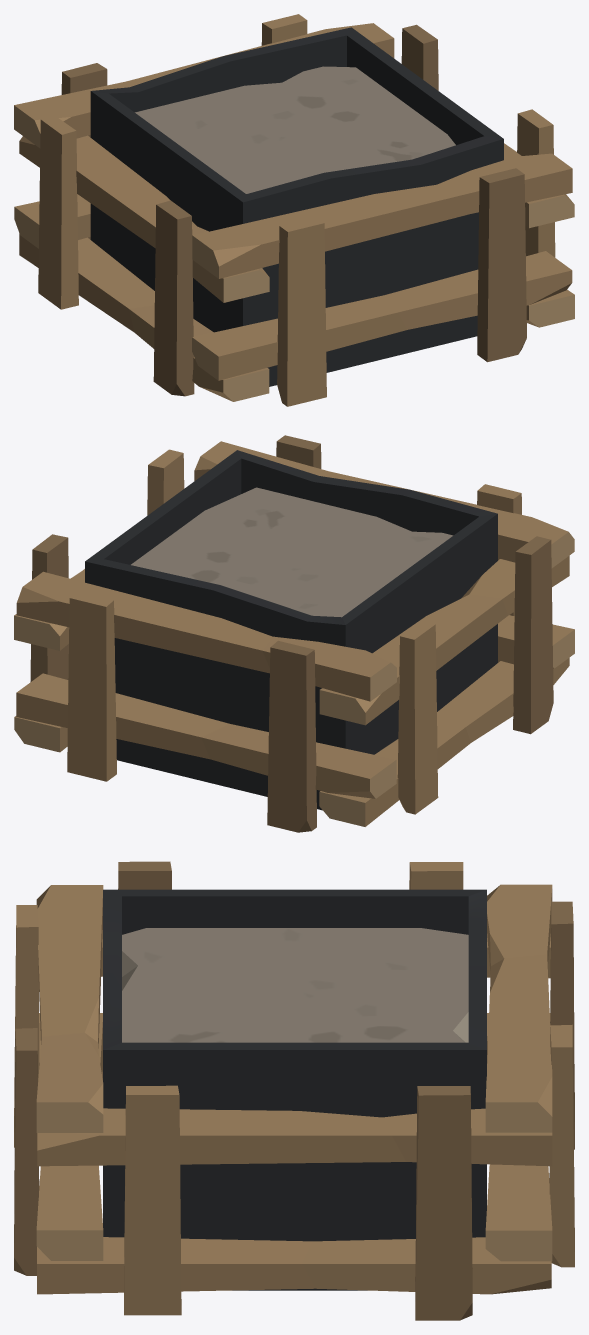
File: SM_Bld_ConcreteFrame_Pillar_Short_03.fbx
The picture shows the model from 3 angles, top to bottom: view 1: azimuth 30°, elevation 25°; view 2: azimuth 150°, elevation 25°; view 3: azimuth 270°, elevation 25°; orthographic projection. The views are drawn at different scales.
Visible parts, largest first — view 1: SM_Bld_ConcreteFrame_Pillar_Short_03; view 2: SM_Bld_ConcreteFrame_Pillar_Short_03; view 3: SM_Bld_ConcreteFrame_Pillar_Short_03.
Part boxes in pixels (bbox=[...]): SM_Bld_ConcreteFrame_Pillar_Short_03: bbox=[14, 14, 574, 406]; SM_Bld_ConcreteFrame_Pillar_Short_03: bbox=[14, 435, 574, 832]; SM_Bld_ConcreteFrame_Pillar_Short_03: bbox=[14, 861, 574, 1320].
Bounding box in the file's own units: 161 × 77.63 × 162.
